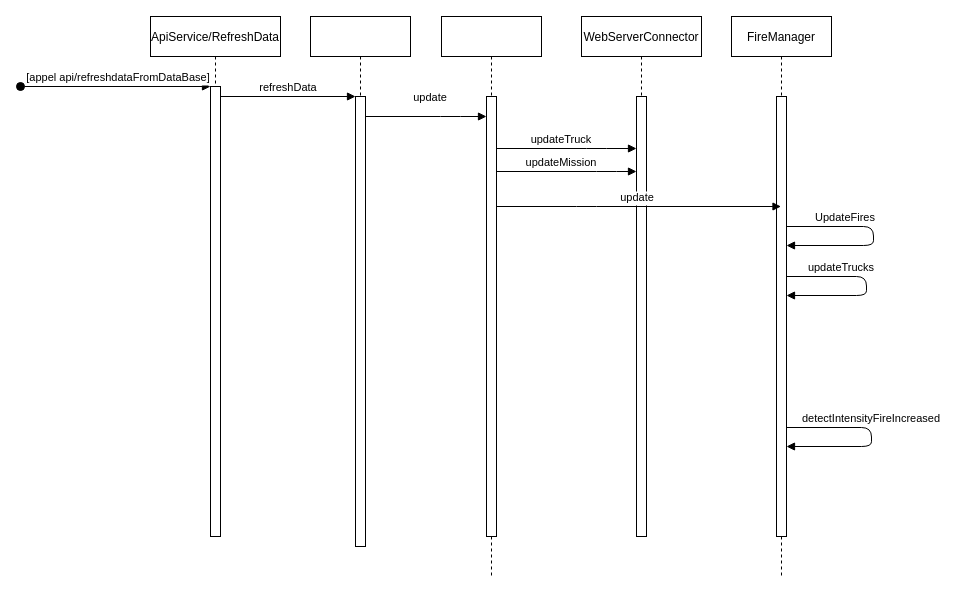
Some shapes in this 959 by 593 pixel diagram are drawn without their labels. Here are the shapes that lost their labels. From the top down, the box of each, then its label:
(310, 16, 410, 546): Manager
(440, 16, 542, 576): MissionManager
